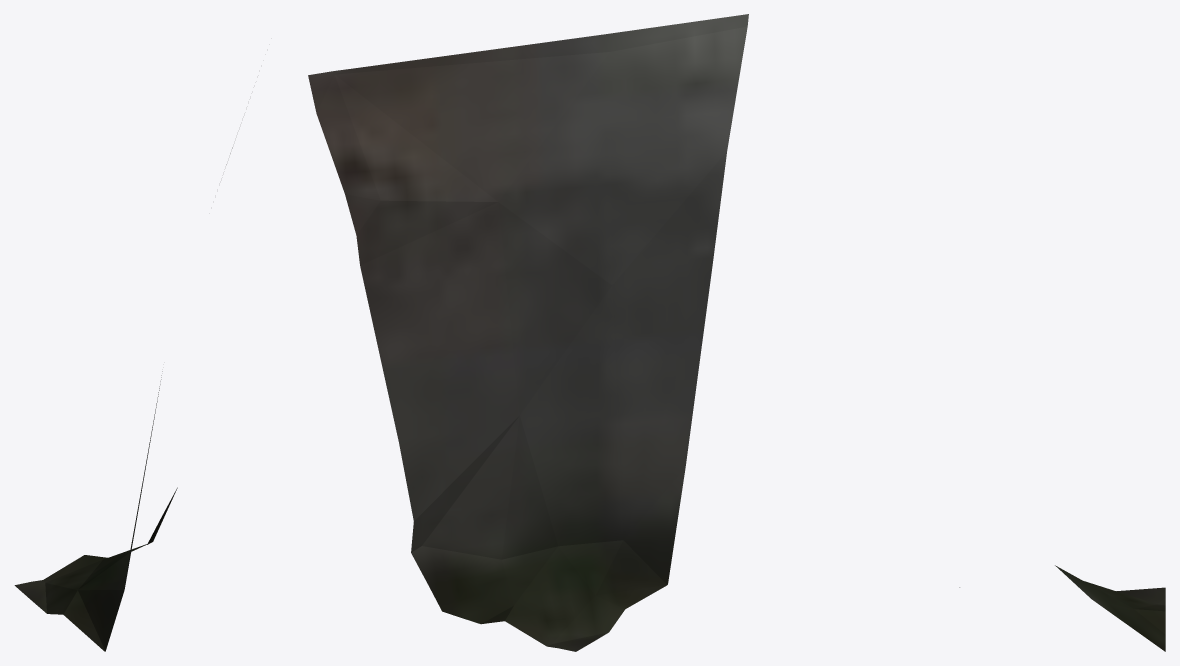
3 views of the same model, side by side, from view 1: azimuth 30°, elevation 25°; view 2: azimuth 150°, elevation 25°; view 3: azimuth 270°, elevation 25° (orthographic). The views are drawn at different scales.
Size of the model in its own units: 0.3856 by 0.7096 by 0.4312.
1 material, 1 textured.
